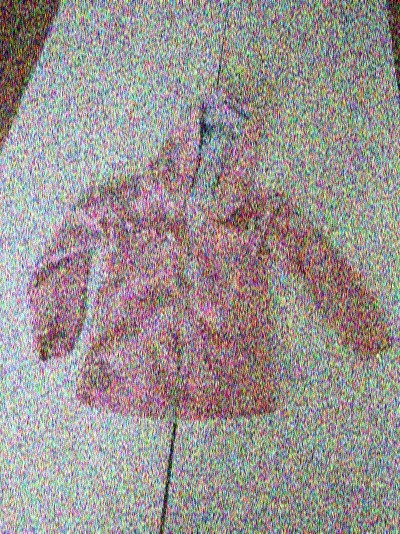Hoodie: (0, 65, 385, 420)
